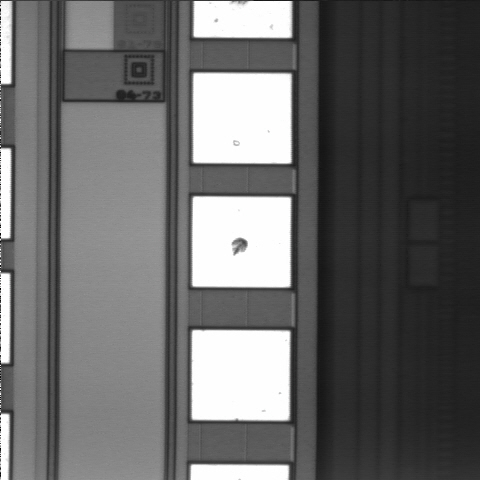pad: (192, 197, 291, 287), (193, 73, 291, 163), (192, 330, 290, 420)
